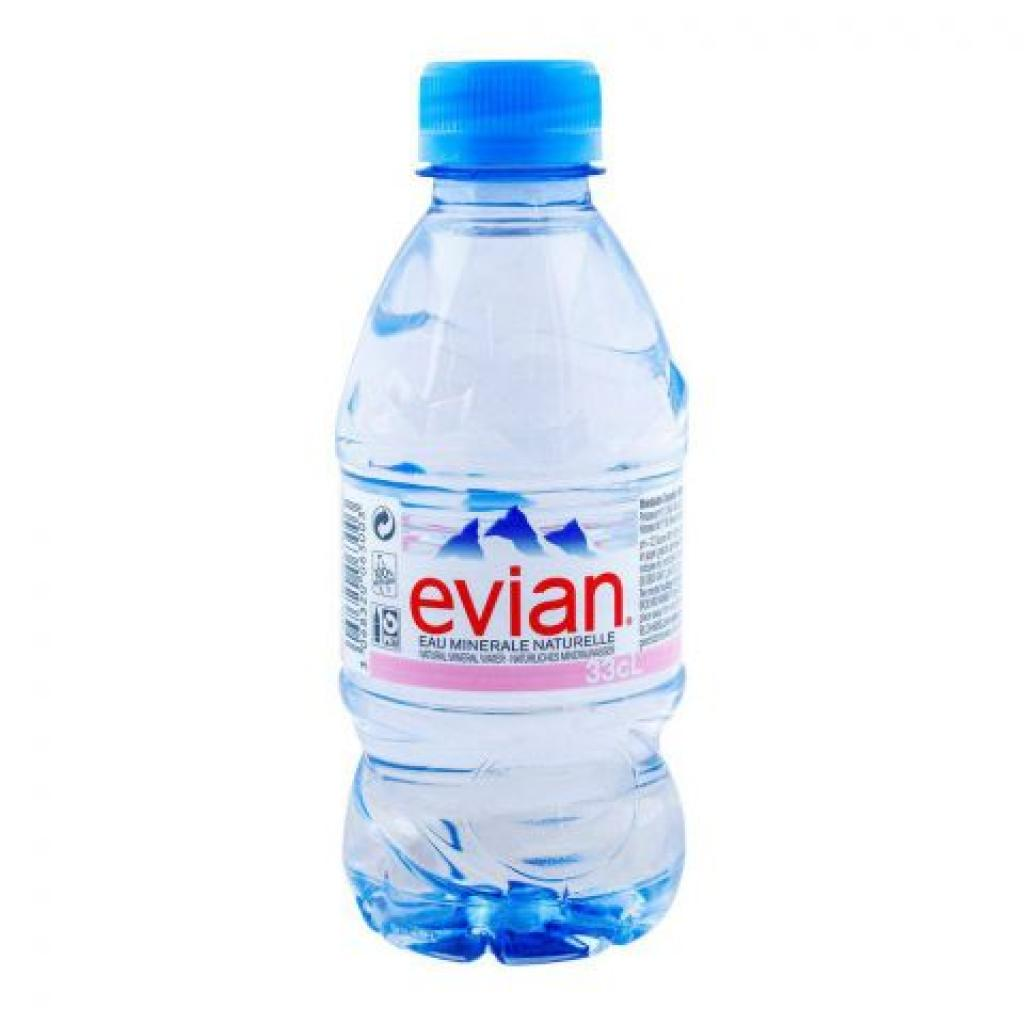plastic: (305, 43, 723, 991)
